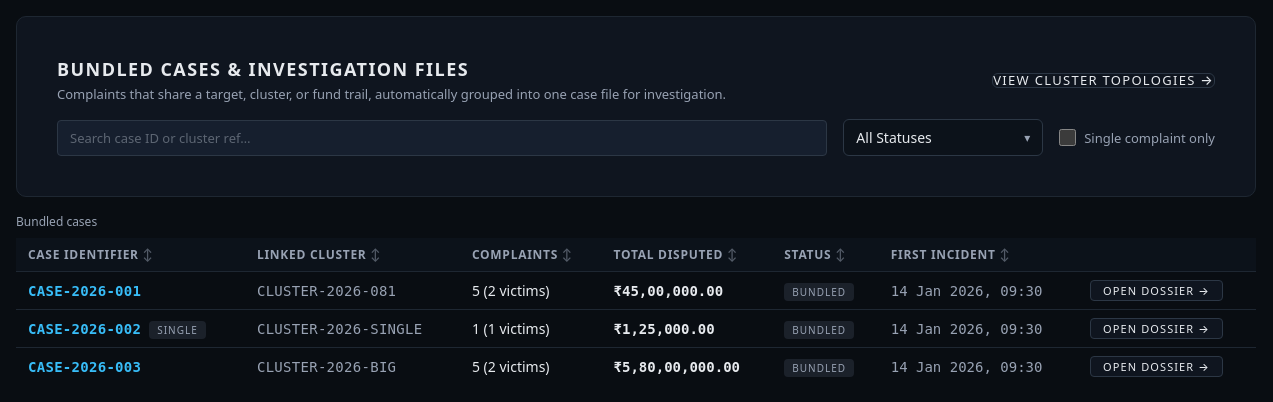
CasesPage & Bundled Cases Explorer (Step C6) › filters cases using 'single complaint only' checkbox
Expected: the table with test id "cases-table" is shown, [16, 213, 1256, 385]
Click the checkbox with test id "single-complaint-checkbox" at x=1068, y=138, box [1059, 129, 1076, 146]
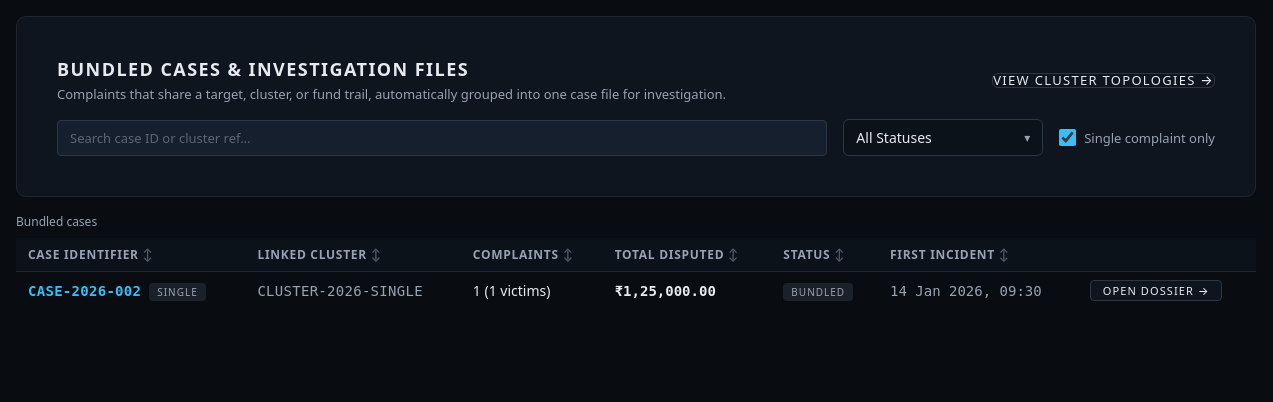
Expected: the row with test id "case-row-CASE-2026-002" is shown, [16, 272, 1256, 309]
Expected: the row with test id "case-row-CASE-2026-001" is gone
Expected: the row with test id "case-row-CASE-2026-003" is gone
